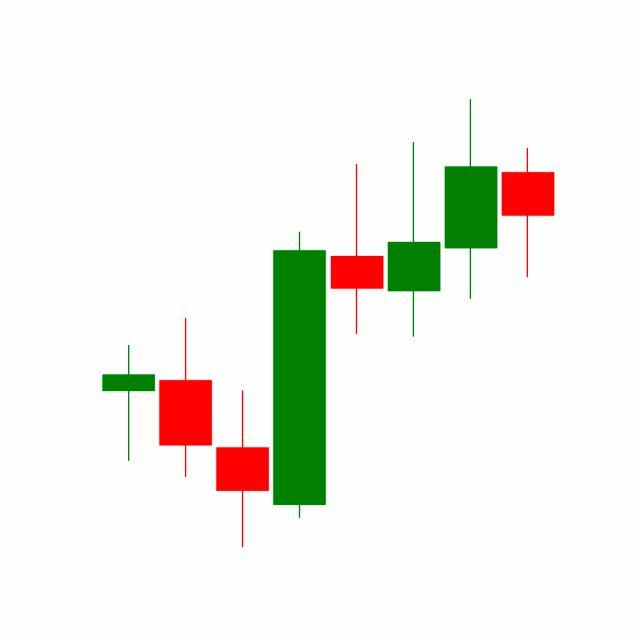Three Outside Up-Down: (328, 99, 500, 341)
